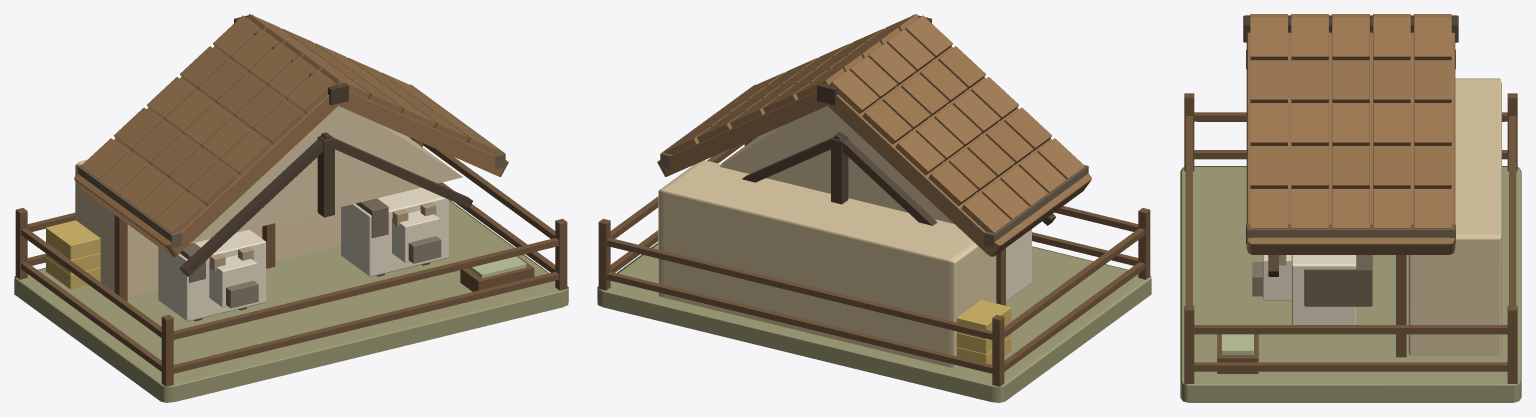
File: cowshed-0.glb
3 views of the same model, side by side, from view 1: azimuth 30°, elevation 25°; view 2: azimuth 150°, elevation 25°; view 3: azimuth 270°, elevation 25° (orthographic). The views are drawn at different scales.
Visible parts, largest first — view 1: cowshed-0-0, cow-1, cow-0; view 2: cowshed-0-0, cow-0; view 3: cowshed-0-0, cow-1.
Boxes of the visible parts, left/top/right/bottom form: cowshed-0-0: left=14, top=14, right=568, bottom=402; cow-1: left=341, top=187, right=448, bottom=276; cow-0: left=158, top=229, right=266, bottom=321; cowshed-0-0: left=597, top=14, right=1151, bottom=402; cow-0: left=1006, top=229, right=1031, bottom=301; cowshed-0-0: left=1180, top=14, right=1521, bottom=402; cow-1: left=1252, top=255, right=1372, bottom=324.
Size of the model in its own units: 2.9 by 1.71 by 1.9.
